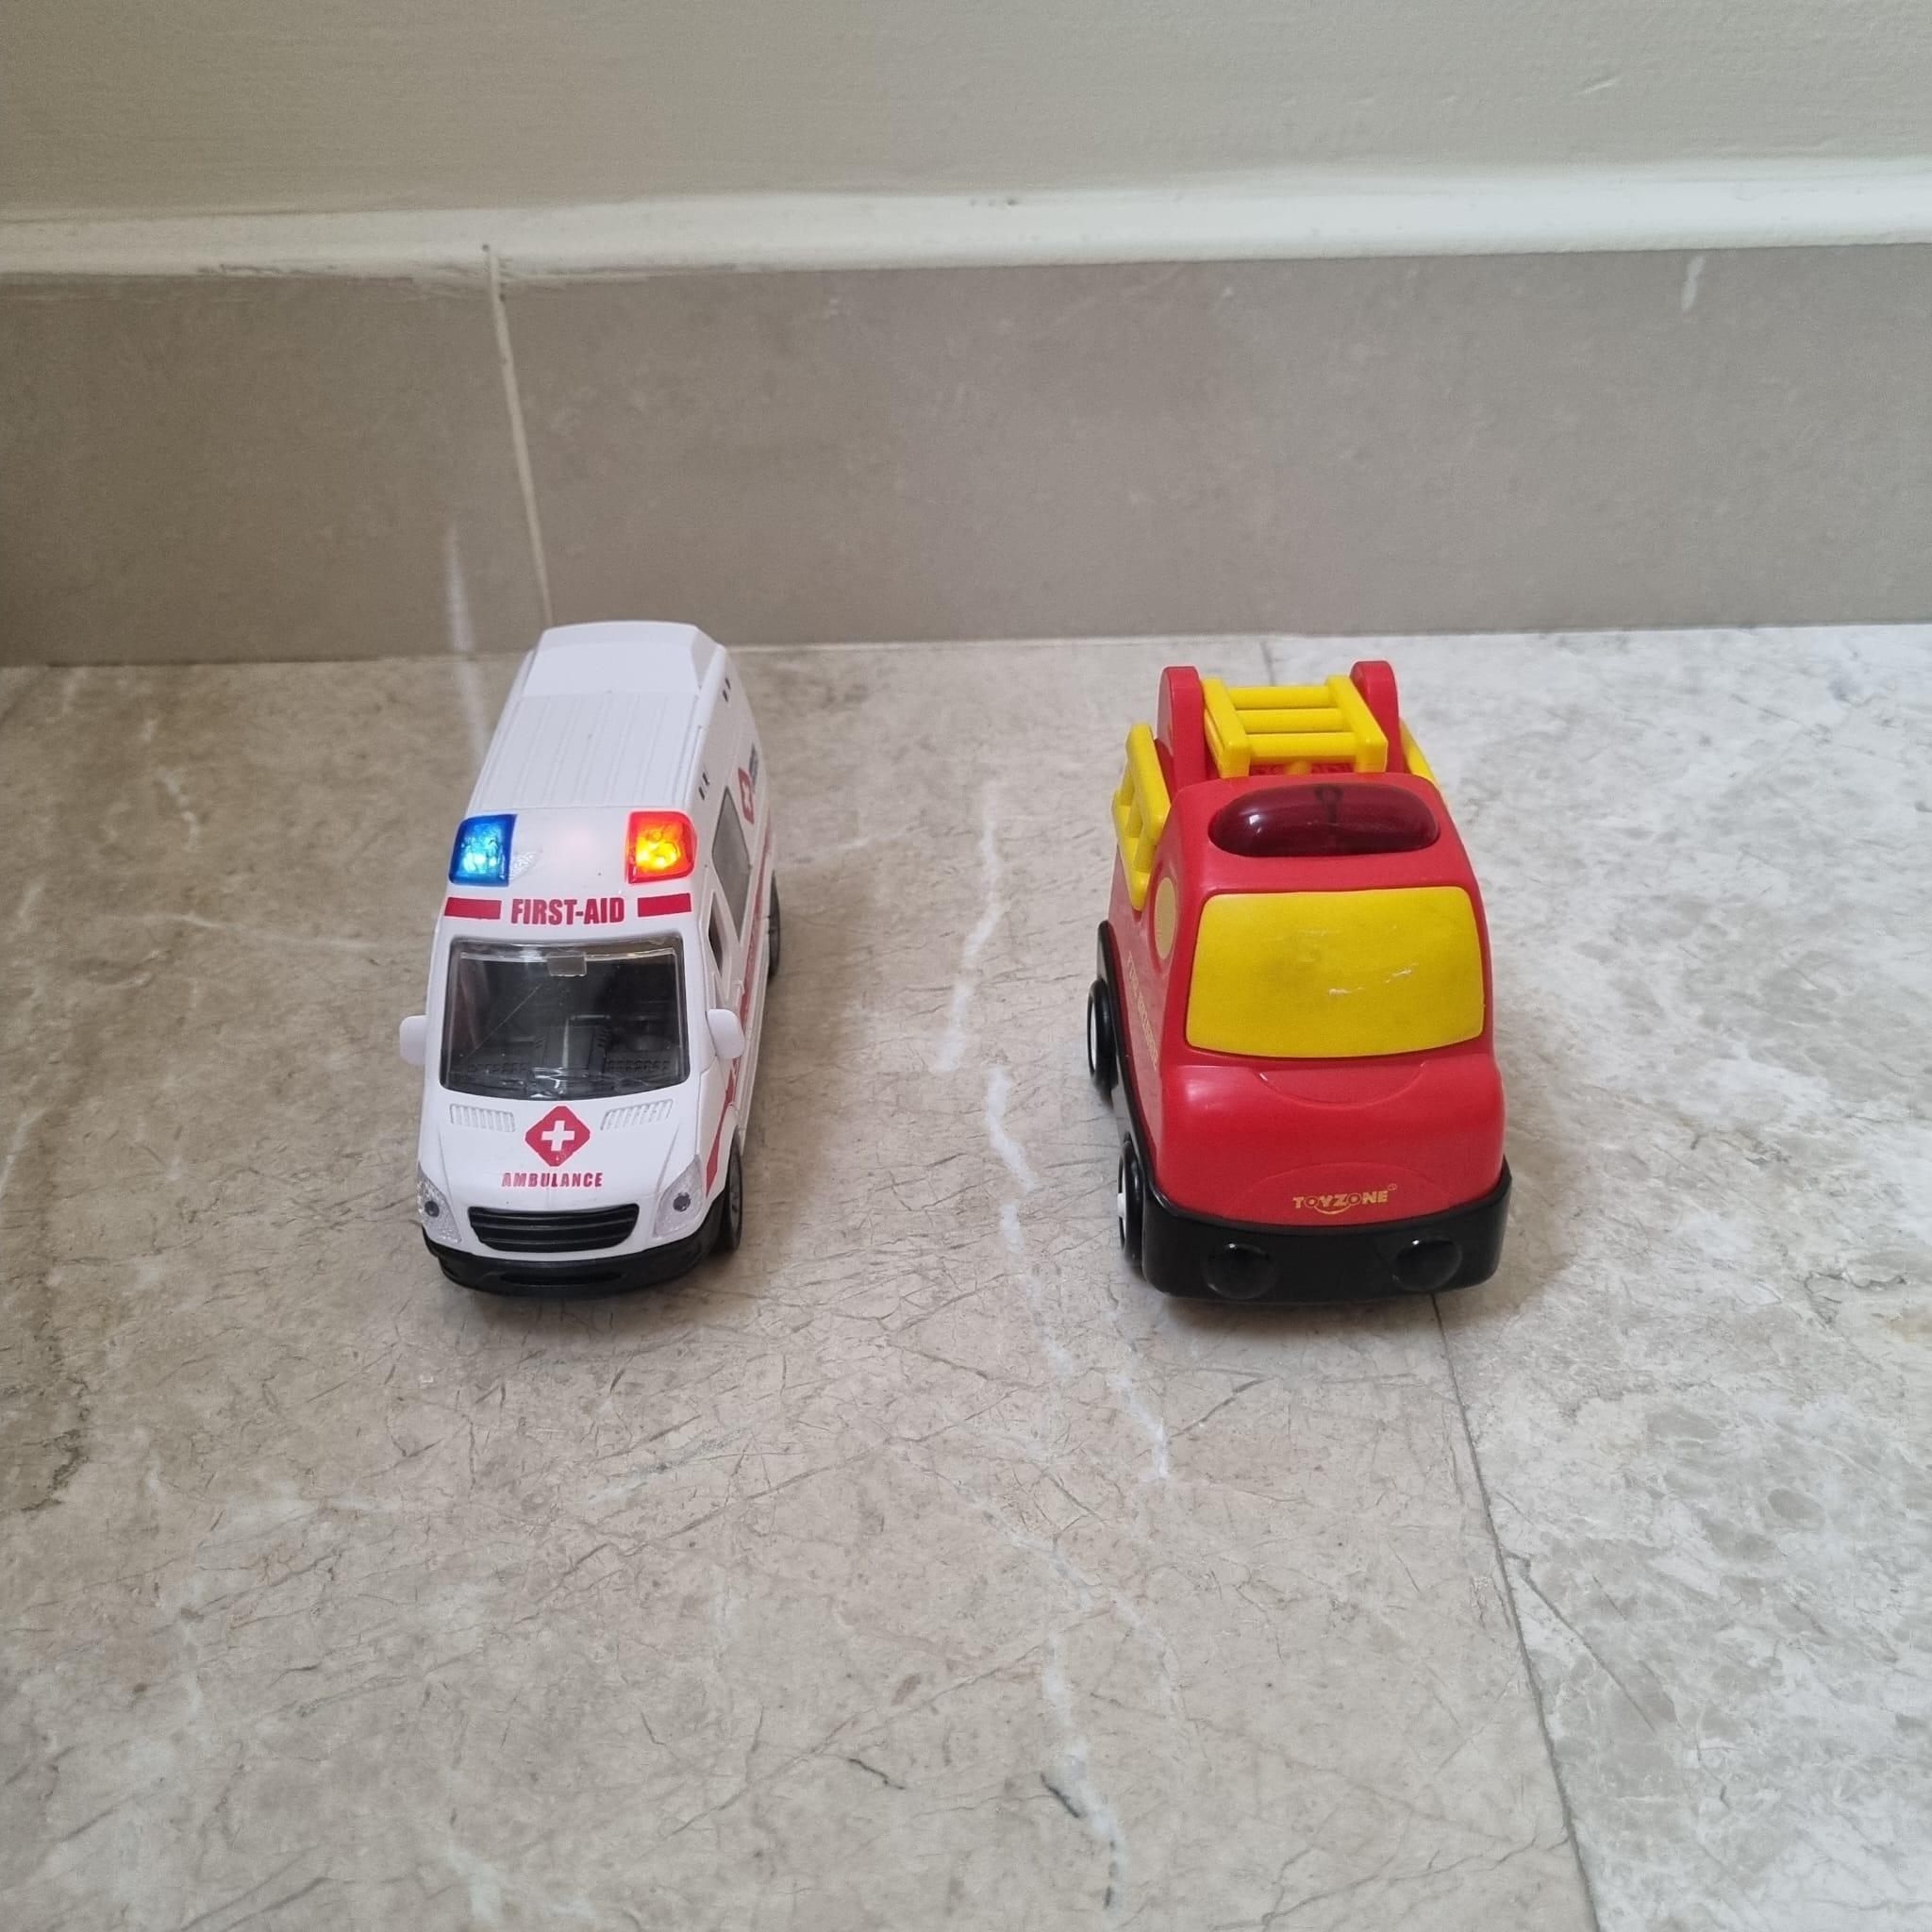ambulance_on: (391, 621, 784, 1309)
firetruck_off: (1083, 662, 1514, 1315)
